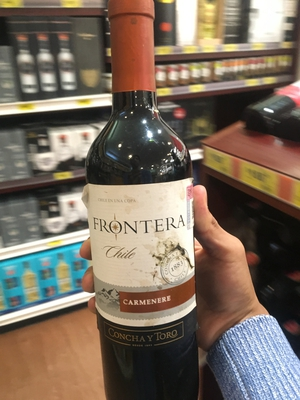frontera carmenere: (76, 12, 206, 400)
